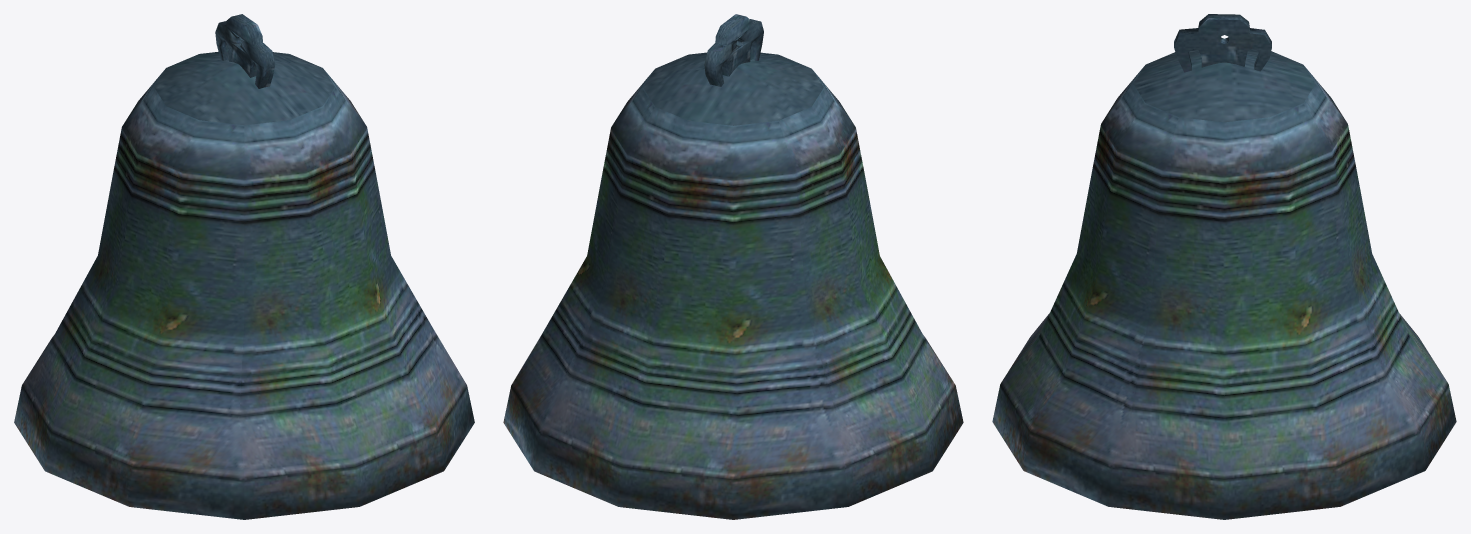
Rendered from bell.obj.
3 renders of one model, left to right at view 1: azimuth 30°, elevation 25°; view 2: azimuth 150°, elevation 25°; view 3: azimuth 270°, elevation 25°, orthographic.
Parts seen in each view (by area): view 1: Cylinder001; view 2: Cylinder001; view 3: Cylinder001.
Boxes of the visible parts, box(x1,y1,x2,y2) form: Cylinder001: box(14, 14, 474, 519); Cylinder001: box(503, 14, 963, 519); Cylinder001: box(992, 14, 1456, 519).
Size of the model in its own units: 1024 by 986 by 1024.
